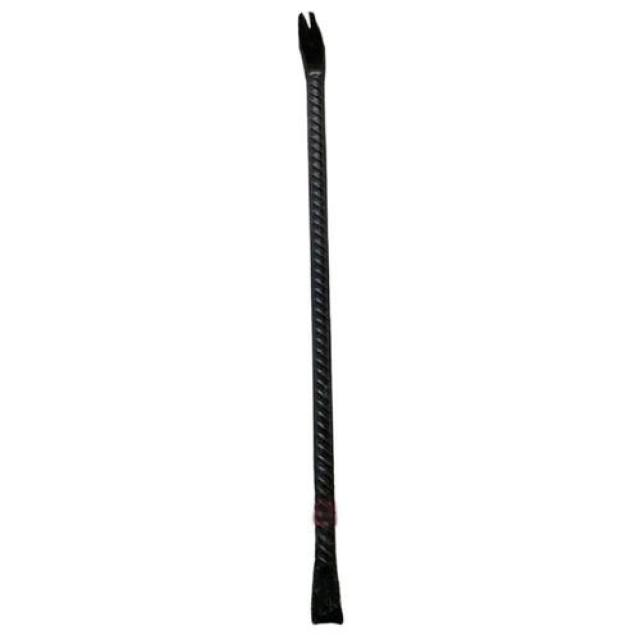Linggis: (294, 14, 348, 627)
